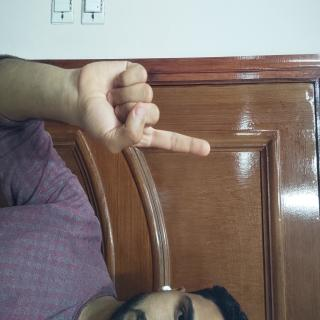BAA: (40, 138, 119, 320)
